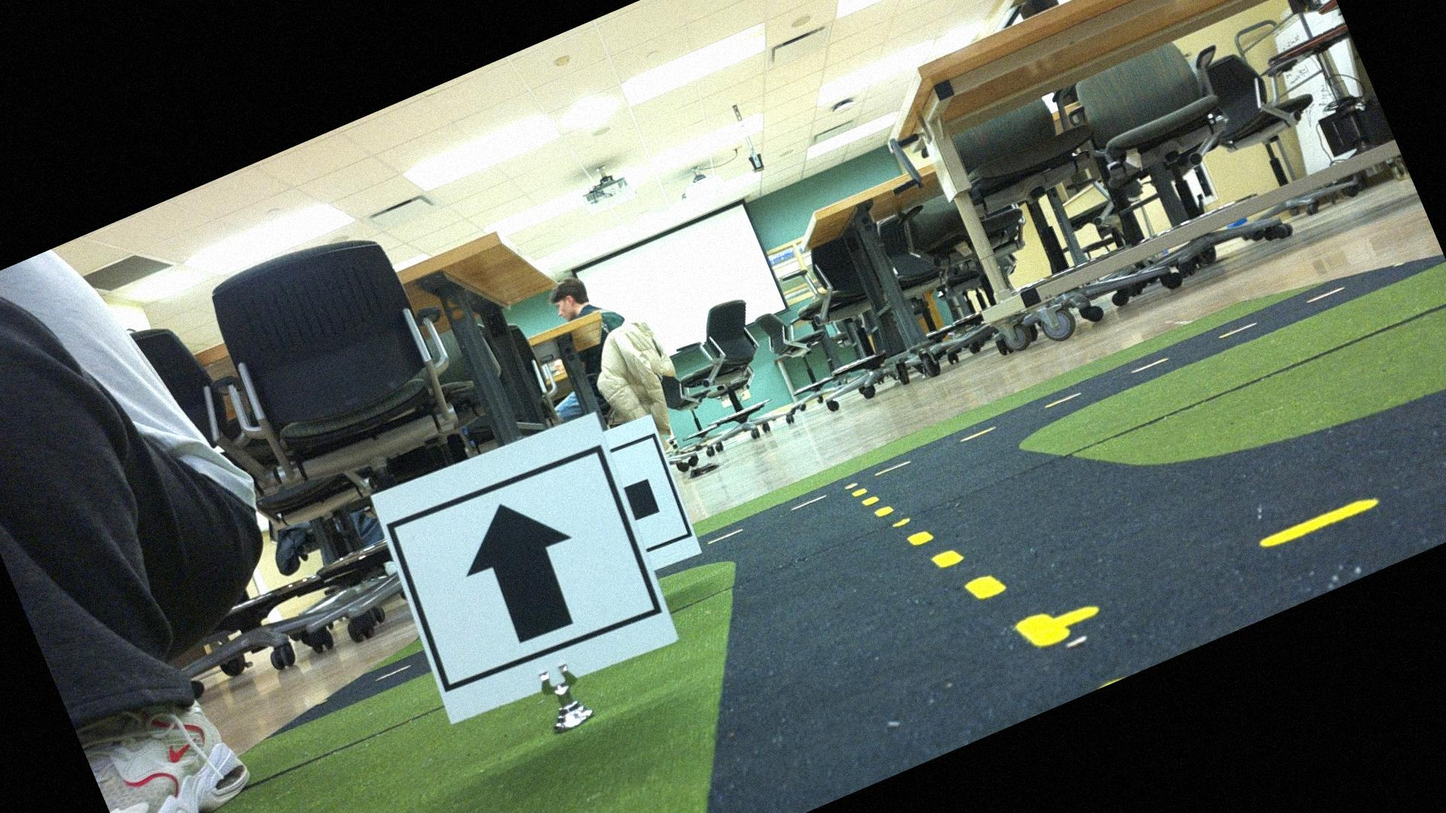gostraight: (368, 420, 672, 723)
yellowline: (844, 427, 1070, 696)
